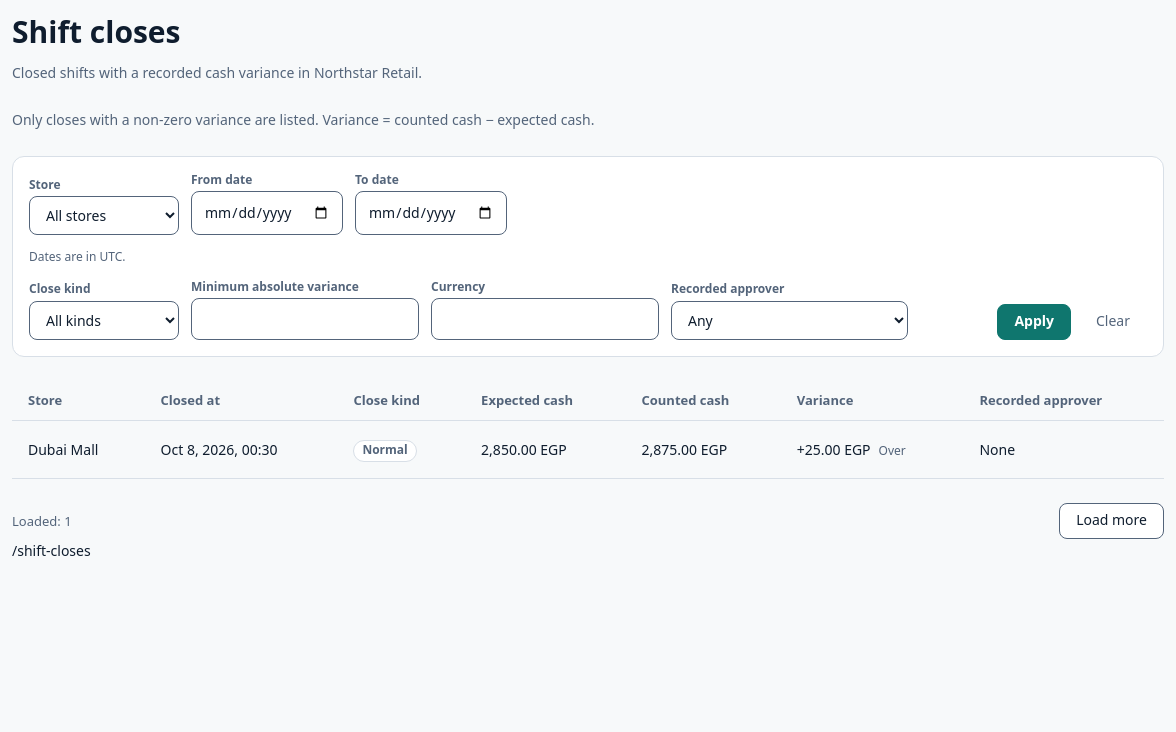
Test: ShiftCloseList (RT-18) › a continuation page that fails keeps the loaded rows and offers a retry that reuses the cursor
The width and height of the screenshot is (1176, 732).
Click the button "Load more" at coordinates (1112, 521), box [1059,503,1164,539]
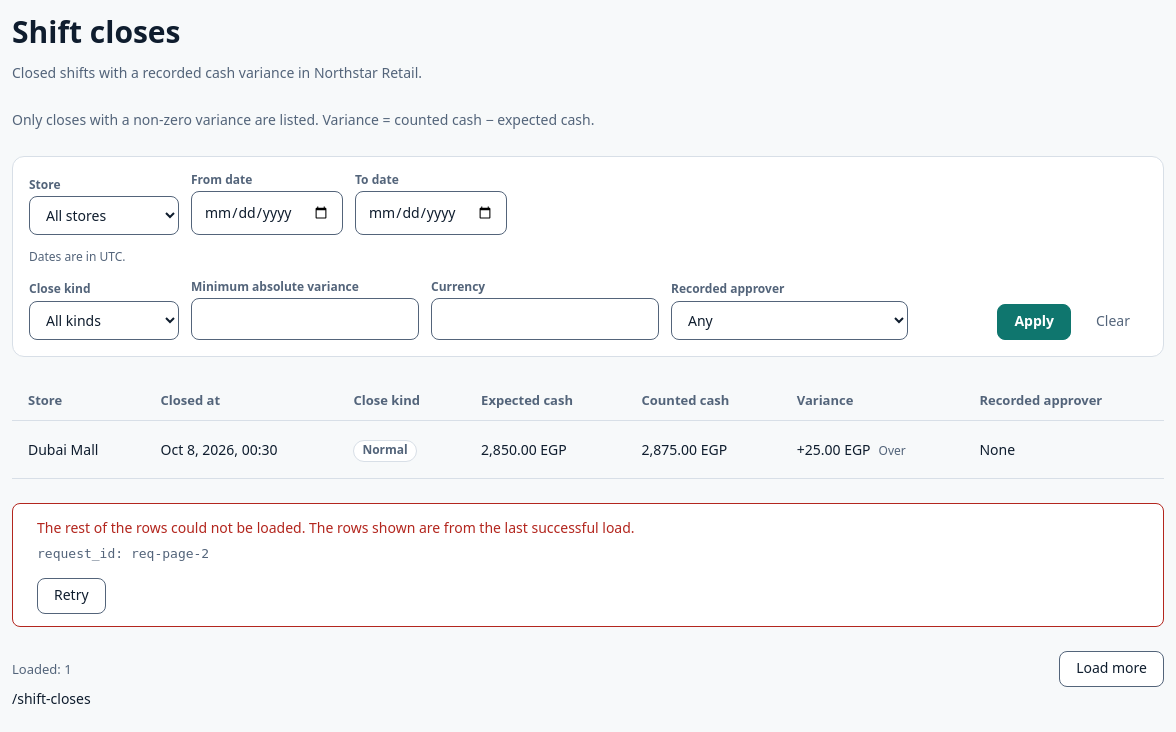
Check: the number of rows is 2, box [12,381,1164,421]; [12,422,1164,478]
Check: the message shows "rows shown are from the last successful load", box [37,518,635,537]
Check: the message shows "req-page-2", box [131,546,209,562]
Click the button "Retry" at coordinates (71, 596), box [37,578,106,614]
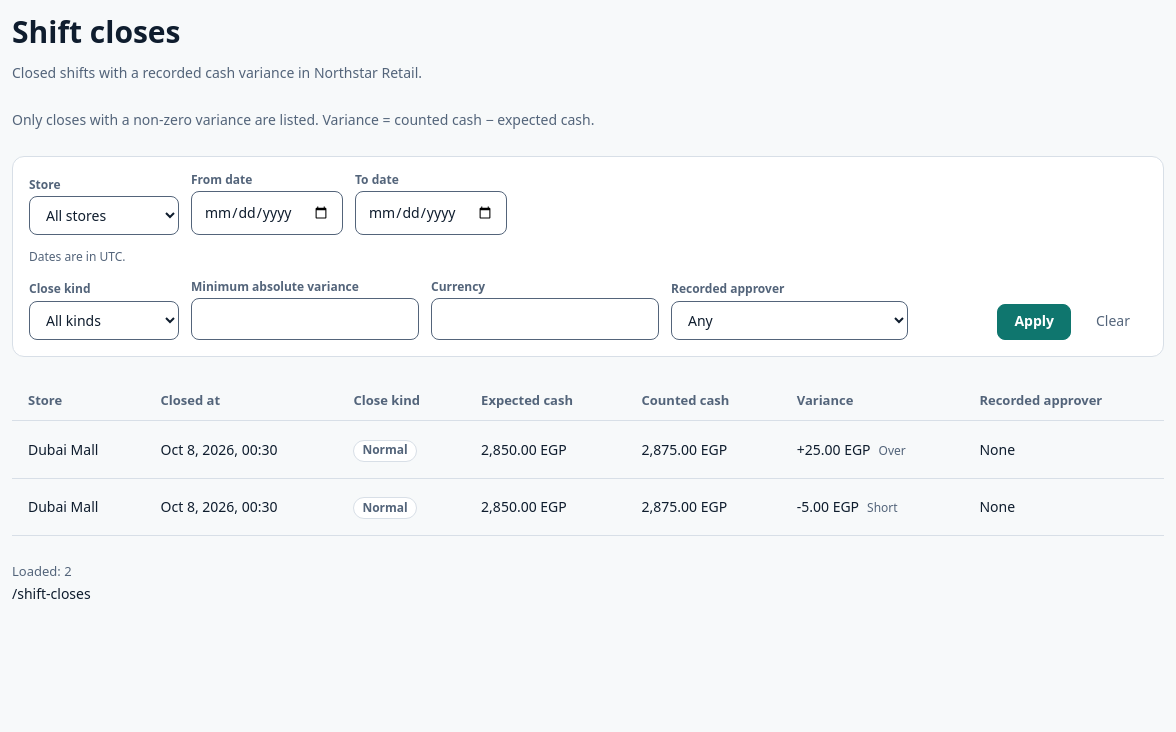
Check: the number of rows is 3, box [12,381,1164,421]; [12,422,1164,478]; [12,478,1164,535]
Check: the message is gone
